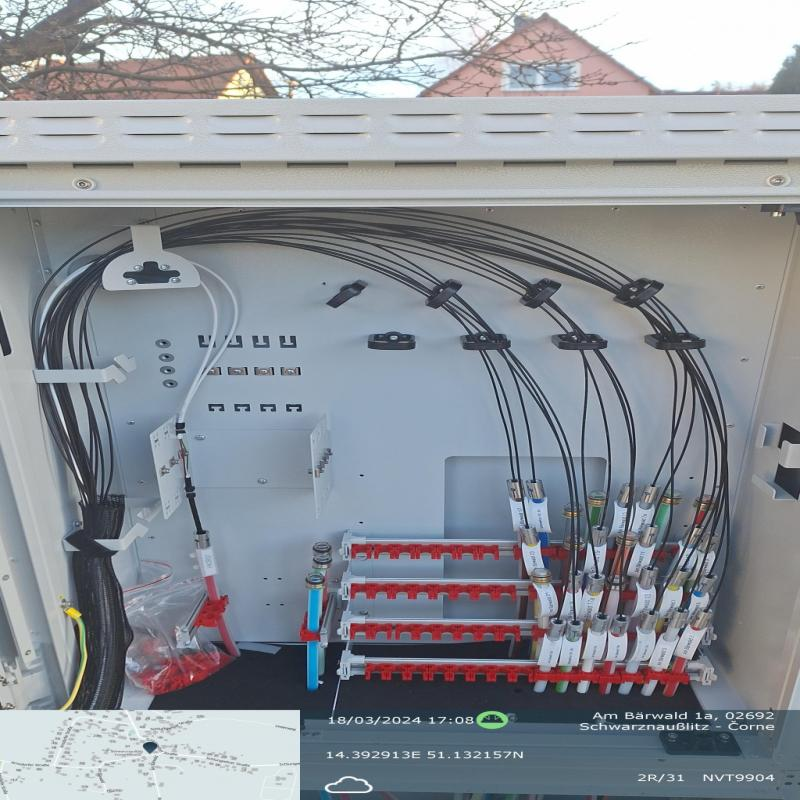NT-Gehause: (8, 107, 800, 710)
